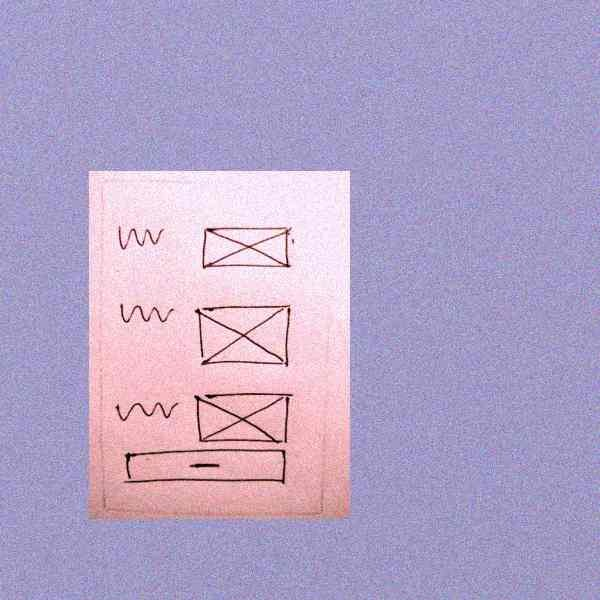button: (117, 447, 293, 490)
image: (194, 300, 296, 371), (190, 386, 296, 450), (196, 220, 298, 280)
text: (112, 394, 180, 427), (114, 300, 178, 331), (113, 220, 166, 255)
